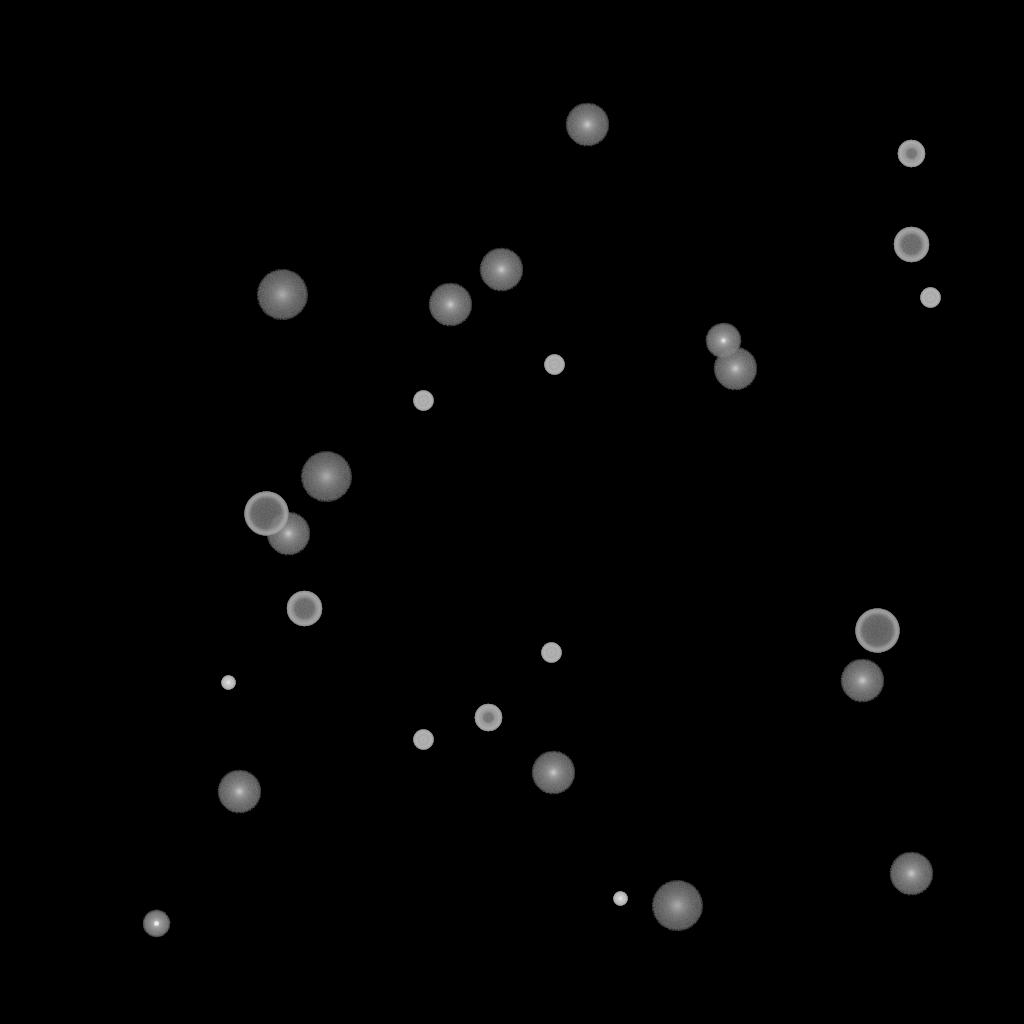depth:-10: (142, 910, 170, 938)
depth:-30: (613, 892, 627, 906), (221, 676, 235, 690)
depth:-40: (541, 643, 561, 663), (413, 391, 433, 411), (413, 730, 433, 750), (544, 355, 564, 375), (920, 288, 940, 308)
depth:-50: (474, 704, 502, 732), (897, 140, 925, 168)
depth:-60: (286, 591, 322, 627), (893, 227, 929, 263)
depth:-70: (855, 609, 899, 653), (244, 492, 288, 536)
depth:0: (705, 323, 741, 359)
depth:10: (479, 248, 523, 292), (531, 751, 575, 795), (266, 512, 310, 556), (428, 283, 472, 327), (713, 347, 757, 391), (889, 852, 933, 896), (840, 659, 884, 703), (217, 770, 261, 814), (565, 103, 609, 147)
depth:20: (300, 452, 352, 502), (651, 881, 703, 931), (256, 270, 308, 320)
